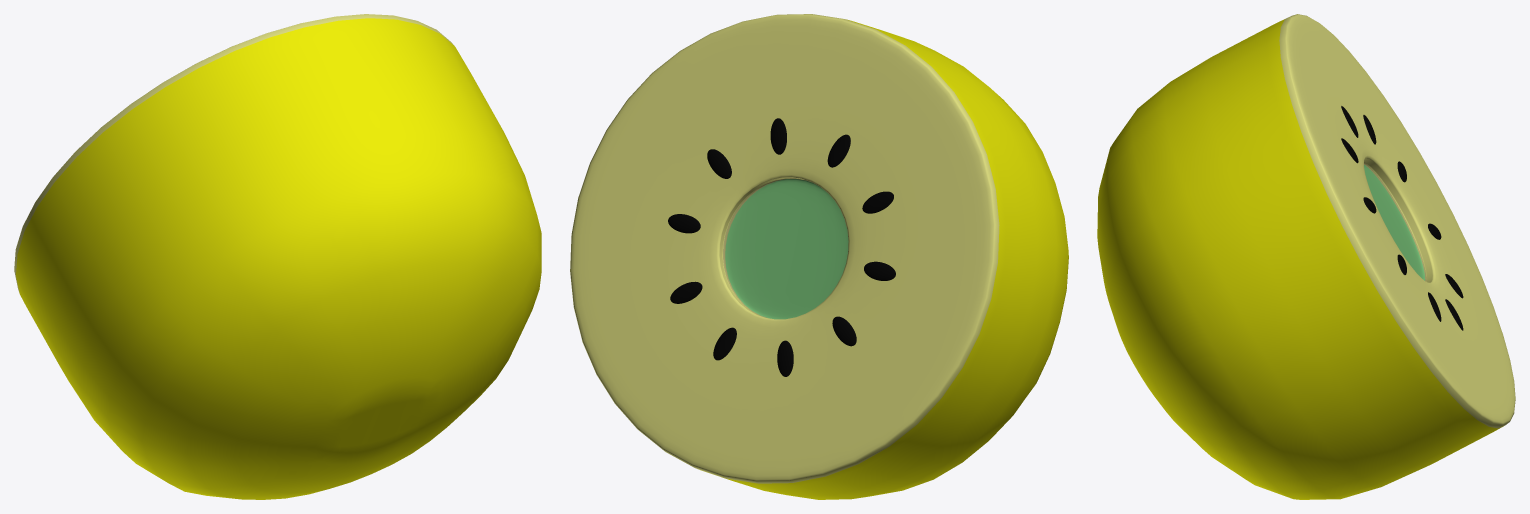
File: MegaKiwi.fbx
3 views of the same model, side by side, from view 1: azimuth 30°, elevation 25°; view 2: azimuth 150°, elevation 25°; view 3: azimuth 270°, elevation 25° (orthographic). The views are drawn at different scales.
Visible parts, largest first — view 1: pSphere12; view 2: pSphere12; view 3: pSphere12.
Part boxes in pixels (bbox=[...]): pSphere12: bbox=[14, 14, 541, 499]; pSphere12: bbox=[570, 14, 1068, 499]; pSphere12: bbox=[1097, 14, 1515, 499].
Size of the model in its own units: 1.88 by 1.97 by 1.69.
